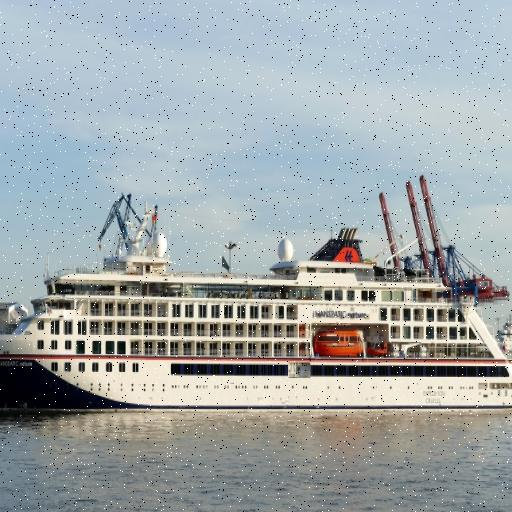cruises: (1, 200, 512, 422)
